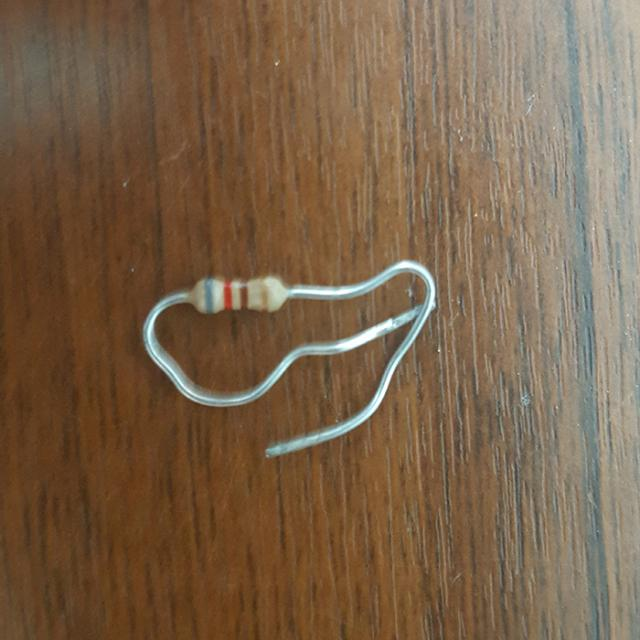brown: (240, 283, 248, 306)
gold: (261, 280, 269, 308)
grey: (204, 279, 213, 312)
red: (223, 283, 230, 307)
resistor: (184, 269, 301, 318)
